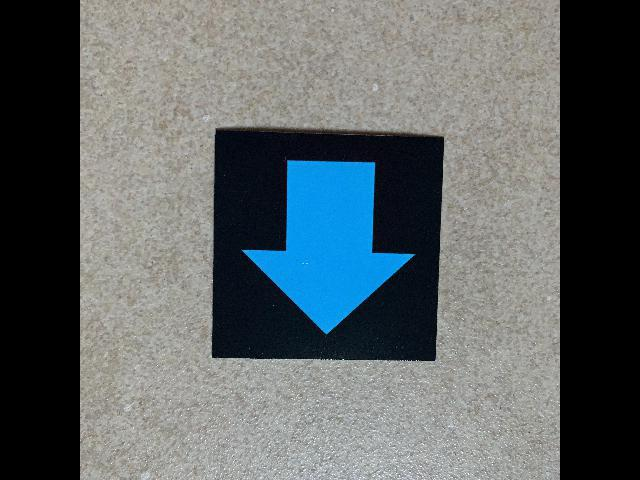down: (212, 125, 445, 363)
